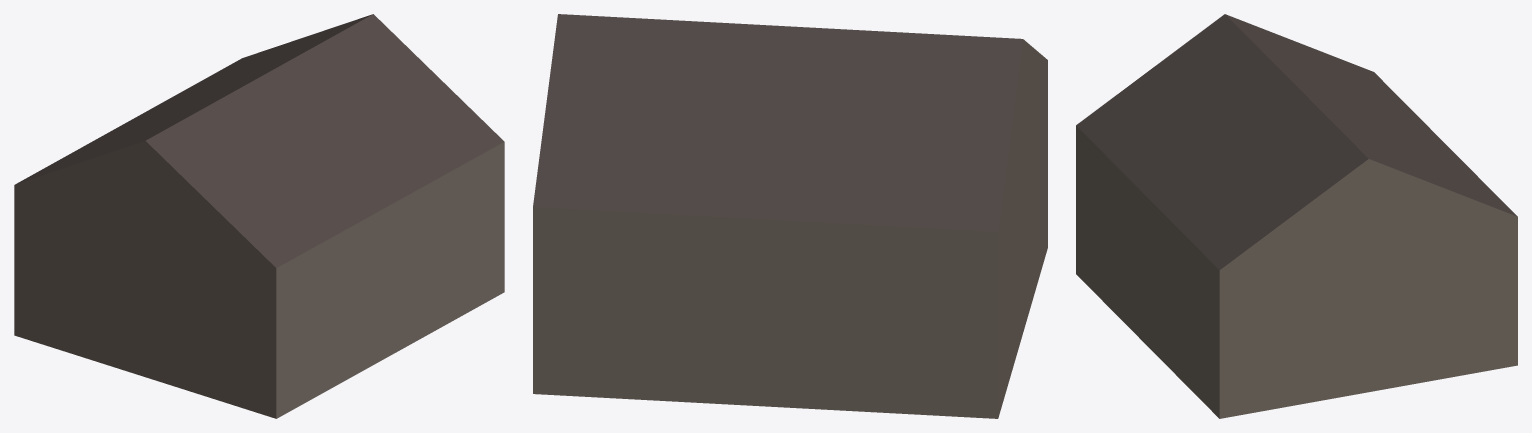
3 views of the same model, side by side, from view 1: azimuth 30°, elevation 25°; view 2: azimuth 150°, elevation 25°; view 3: azimuth 270°, elevation 25° (orthographic). The views are drawn at different scales.
Parts seen in each view (by area): view 1: HP-w373833583; view 2: HP-w373833583; view 3: HP-w373833583.
Part boxes in pixels (x1,y1,x2,y2): HP-w373833583: [14, 14, 504, 418]; HP-w373833583: [533, 14, 1047, 418]; HP-w373833583: [1076, 14, 1517, 418].
Bounding box in the file's own units: 17.18 × 9.42 × 16.18.
